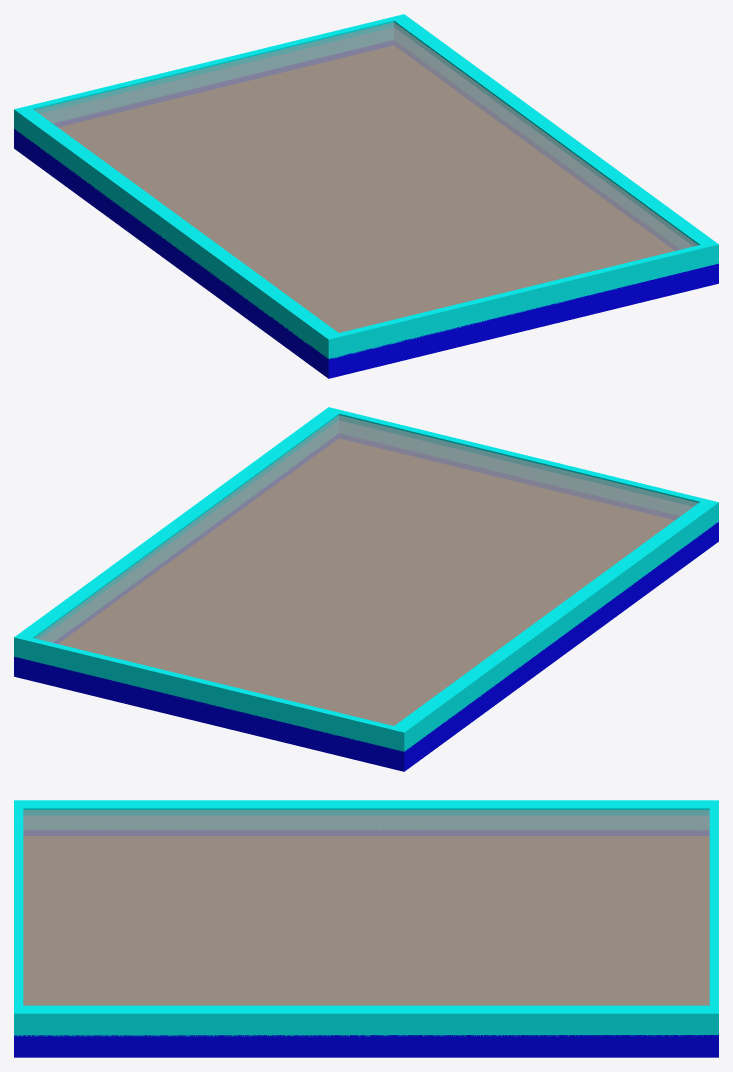
Rendered from billBoardFrame1.fbx.
3 views of the same model, one above another, from view 1: azimuth 30°, elevation 25°; view 2: azimuth 150°, elevation 25°; view 3: azimuth 270°, elevation 25° (orthographic). The views are drawn at different scales.
Parts seen in each view (by area): view 1: BillBoardFrame.001; view 2: BillBoardFrame.001; view 3: BillBoardFrame.001.
Boxes of the visible parts, x1,y1,x2,y2 form: BillBoardFrame.001: (14, 14, 718, 378); BillBoardFrame.001: (14, 407, 718, 771); BillBoardFrame.001: (14, 800, 718, 1057).
Bounding box in the file's own units: 542 × 52.06 × 757.
